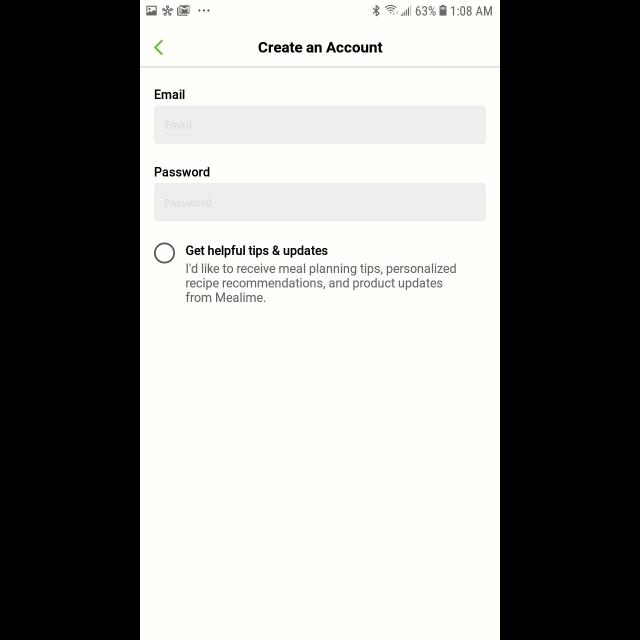checkbox: (154, 243, 174, 263)
icon: (154, 40, 164, 56)
input: (154, 182, 486, 222), (154, 106, 486, 144)
text: (186, 264, 456, 302), (186, 246, 328, 258), (259, 42, 383, 54), (154, 167, 210, 177), (166, 199, 212, 207), (155, 89, 185, 99), (165, 121, 191, 129)
uppertaskbar: (140, 1, 500, 18)
